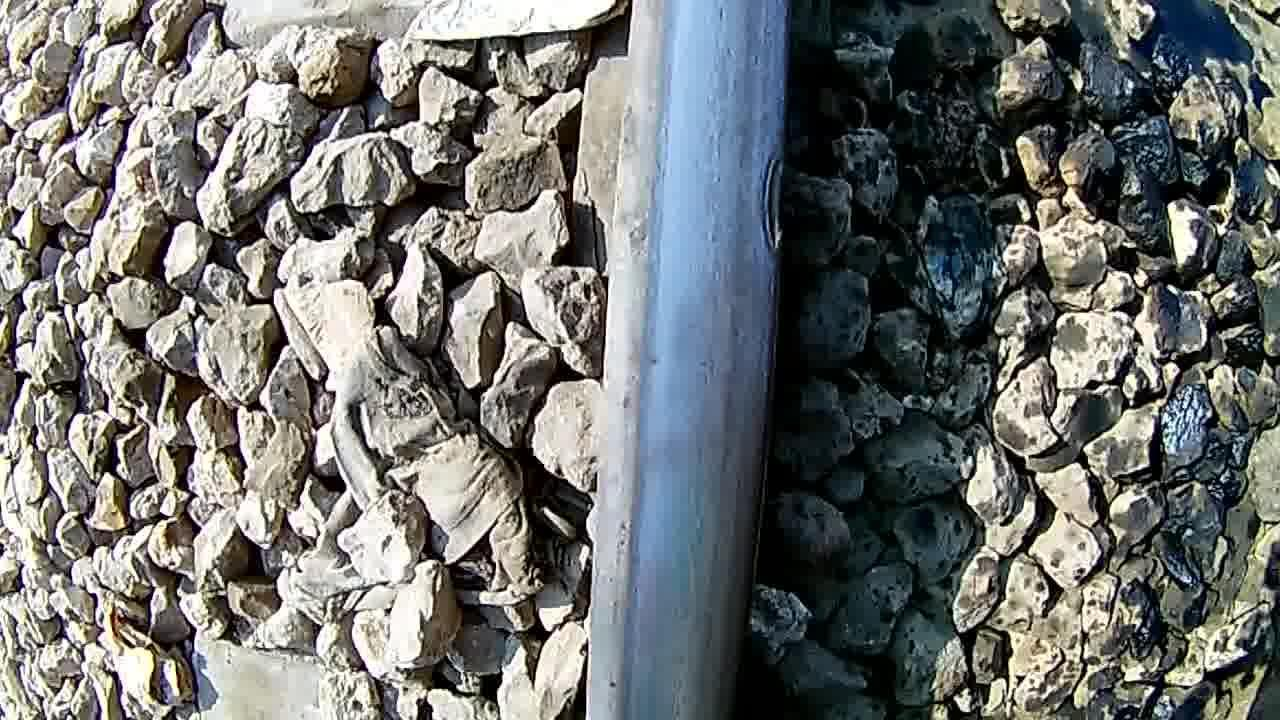crack: (580, 0, 794, 720)
